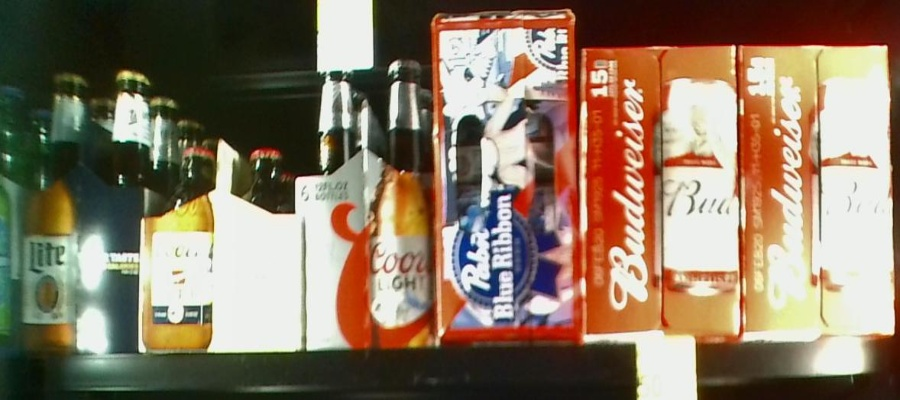bottle: (432, 13, 579, 346), (580, 46, 740, 342), (737, 43, 895, 339), (305, 58, 437, 342), (141, 140, 305, 352), (27, 66, 141, 352)
